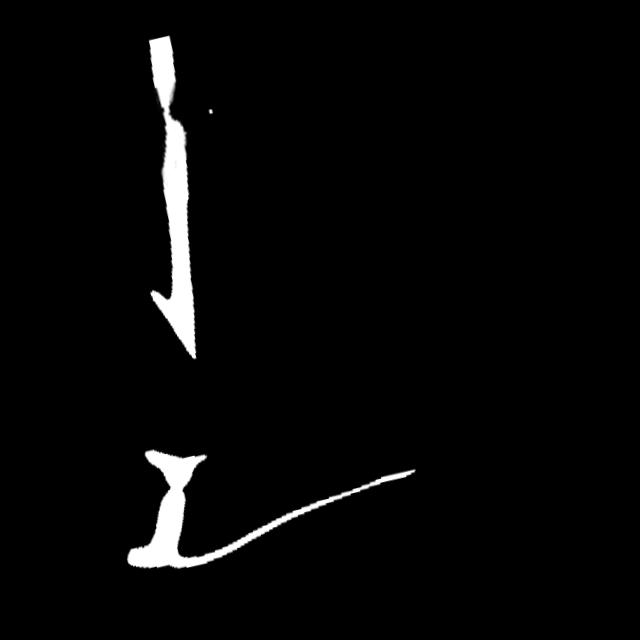sl: (140, 67, 201, 146)
